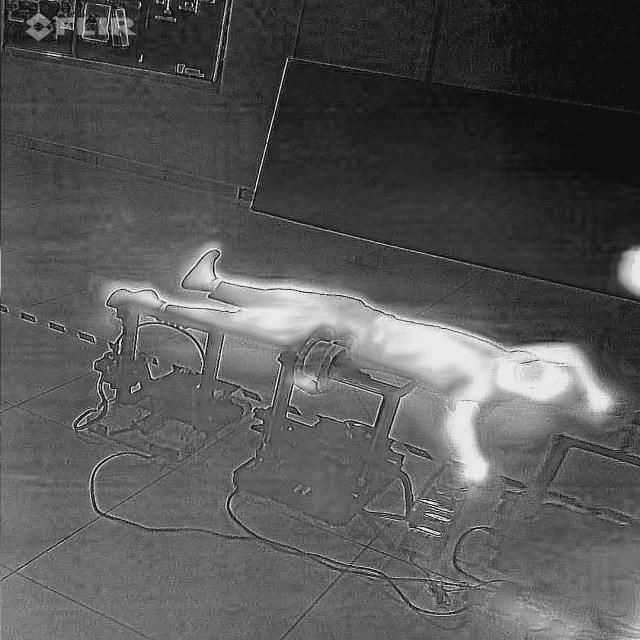Victim: (97, 241, 618, 496)
